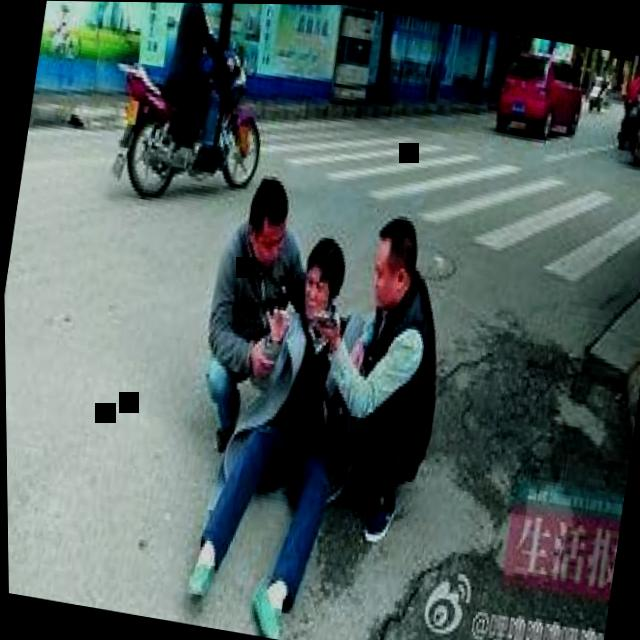Fall-Detected: (166, 213, 383, 640)
